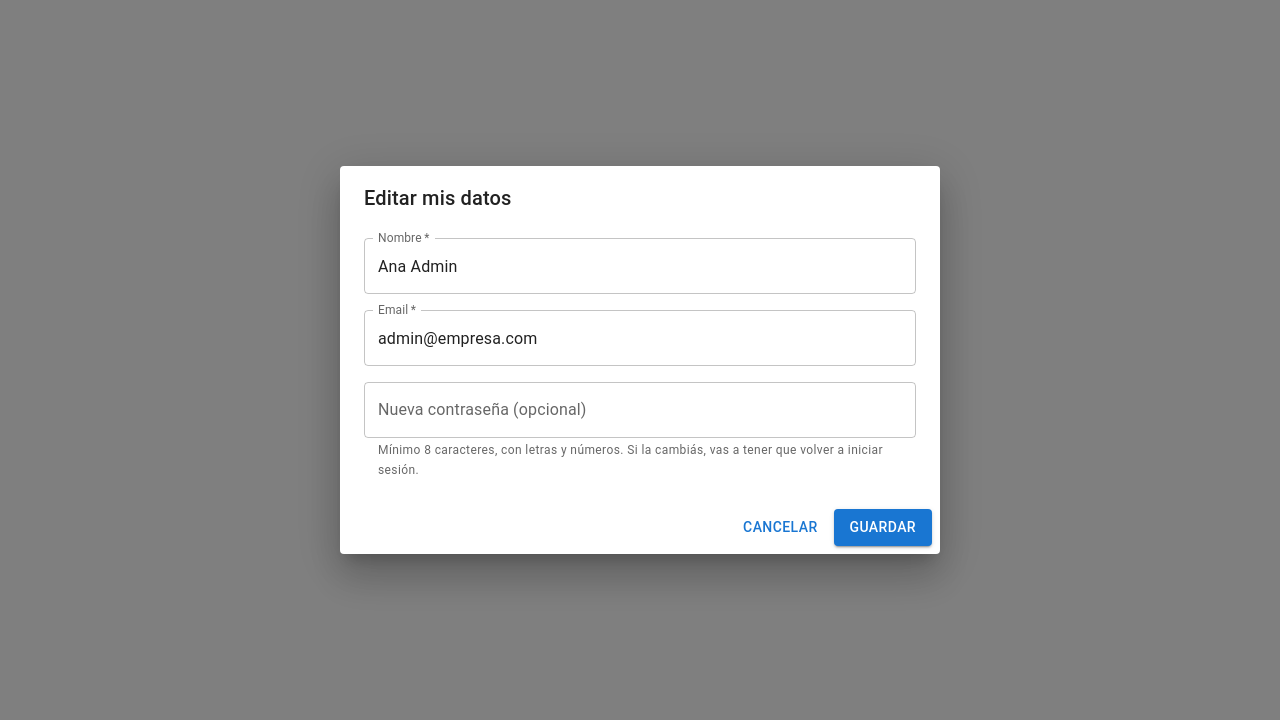
it: EditProfileDialog — app validation instead of the browser bubble › an invalid email is not sent: the app explains which field is wrong
Replace the text in the field labelled "Email *" with "no-es-un-mail". click: coordinates (640, 338)
box: [364,310,916,366]
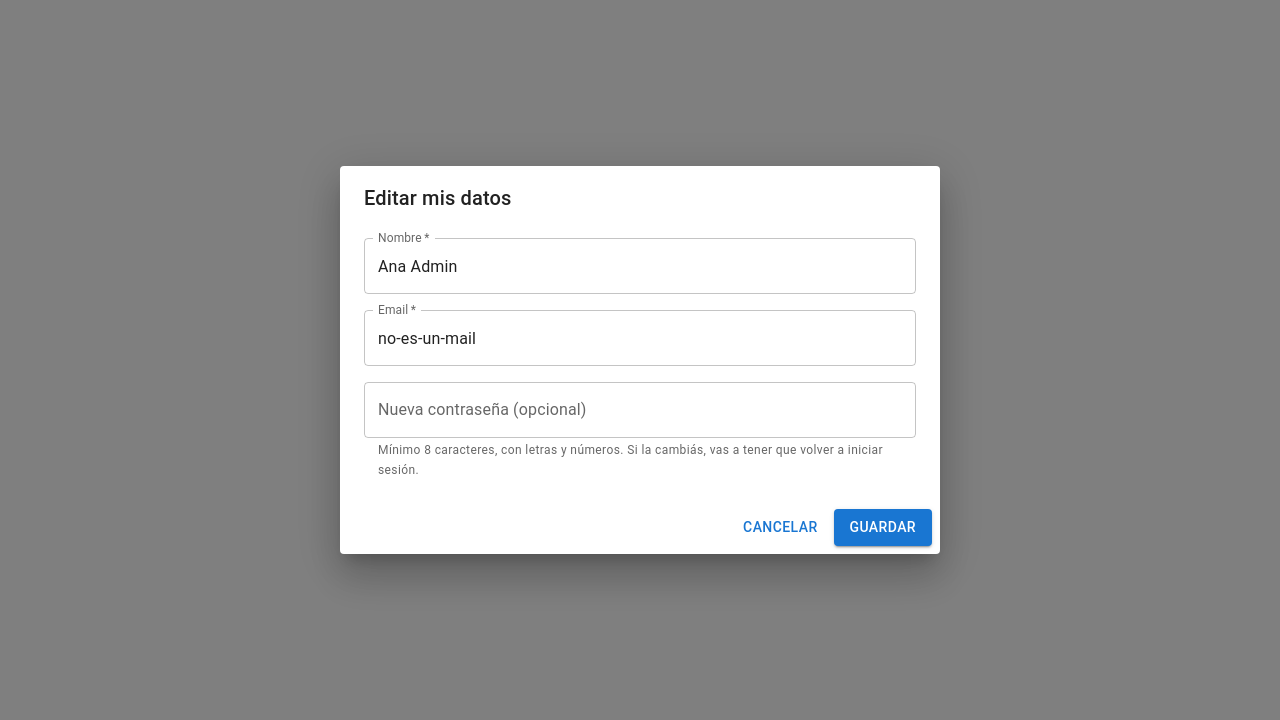
Click the button "Guardar". click: coordinates (883, 527)
box: [834,509,932,546]
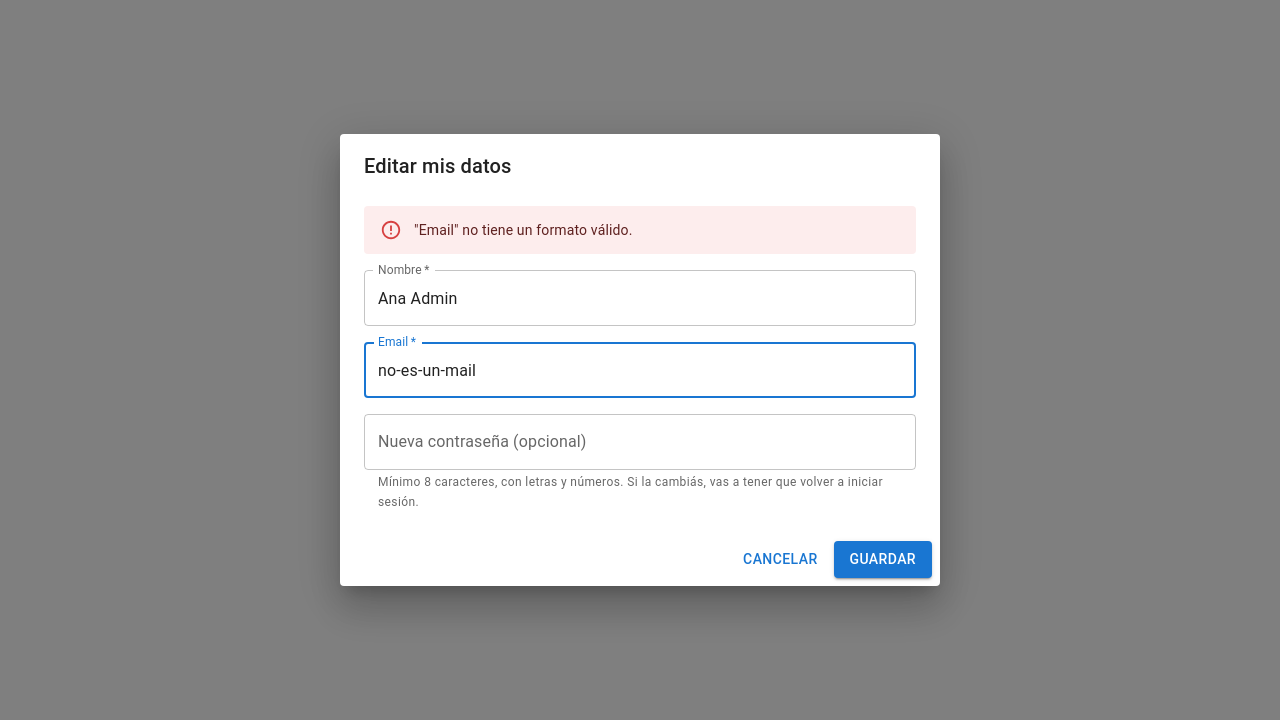
Check: the message reads "\"Email\" no tiene un formato válido.", box [414,222,633,238]
